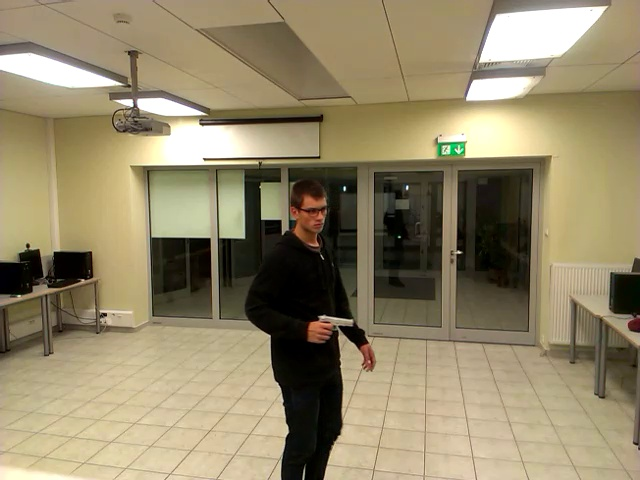gun: (314, 294, 371, 350)
